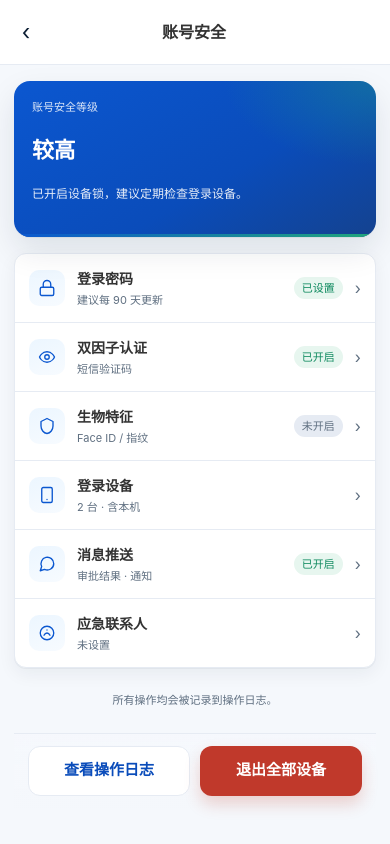
it: SecurityPage › lists sessions and hides WeCom binding while the feature flag is false
The width and height of the screenshot is (390, 844).
Click the button "登录设备 2 台 · 含本机 ›" at (47, 495), box [15,460,375,529]
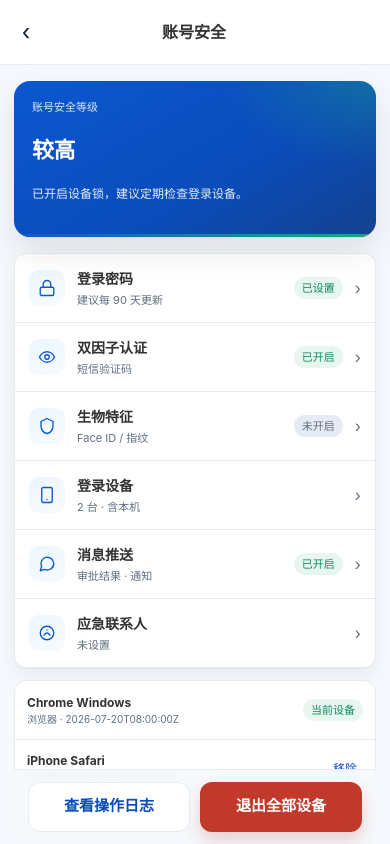
Now the text "Chrome Windows" is shown, box [27,694,131,710]
Now the text "当前设备" is shown, box [303,699,363,721]
Now the text "iPhone Safari" is shown, box [27,753,105,768]
